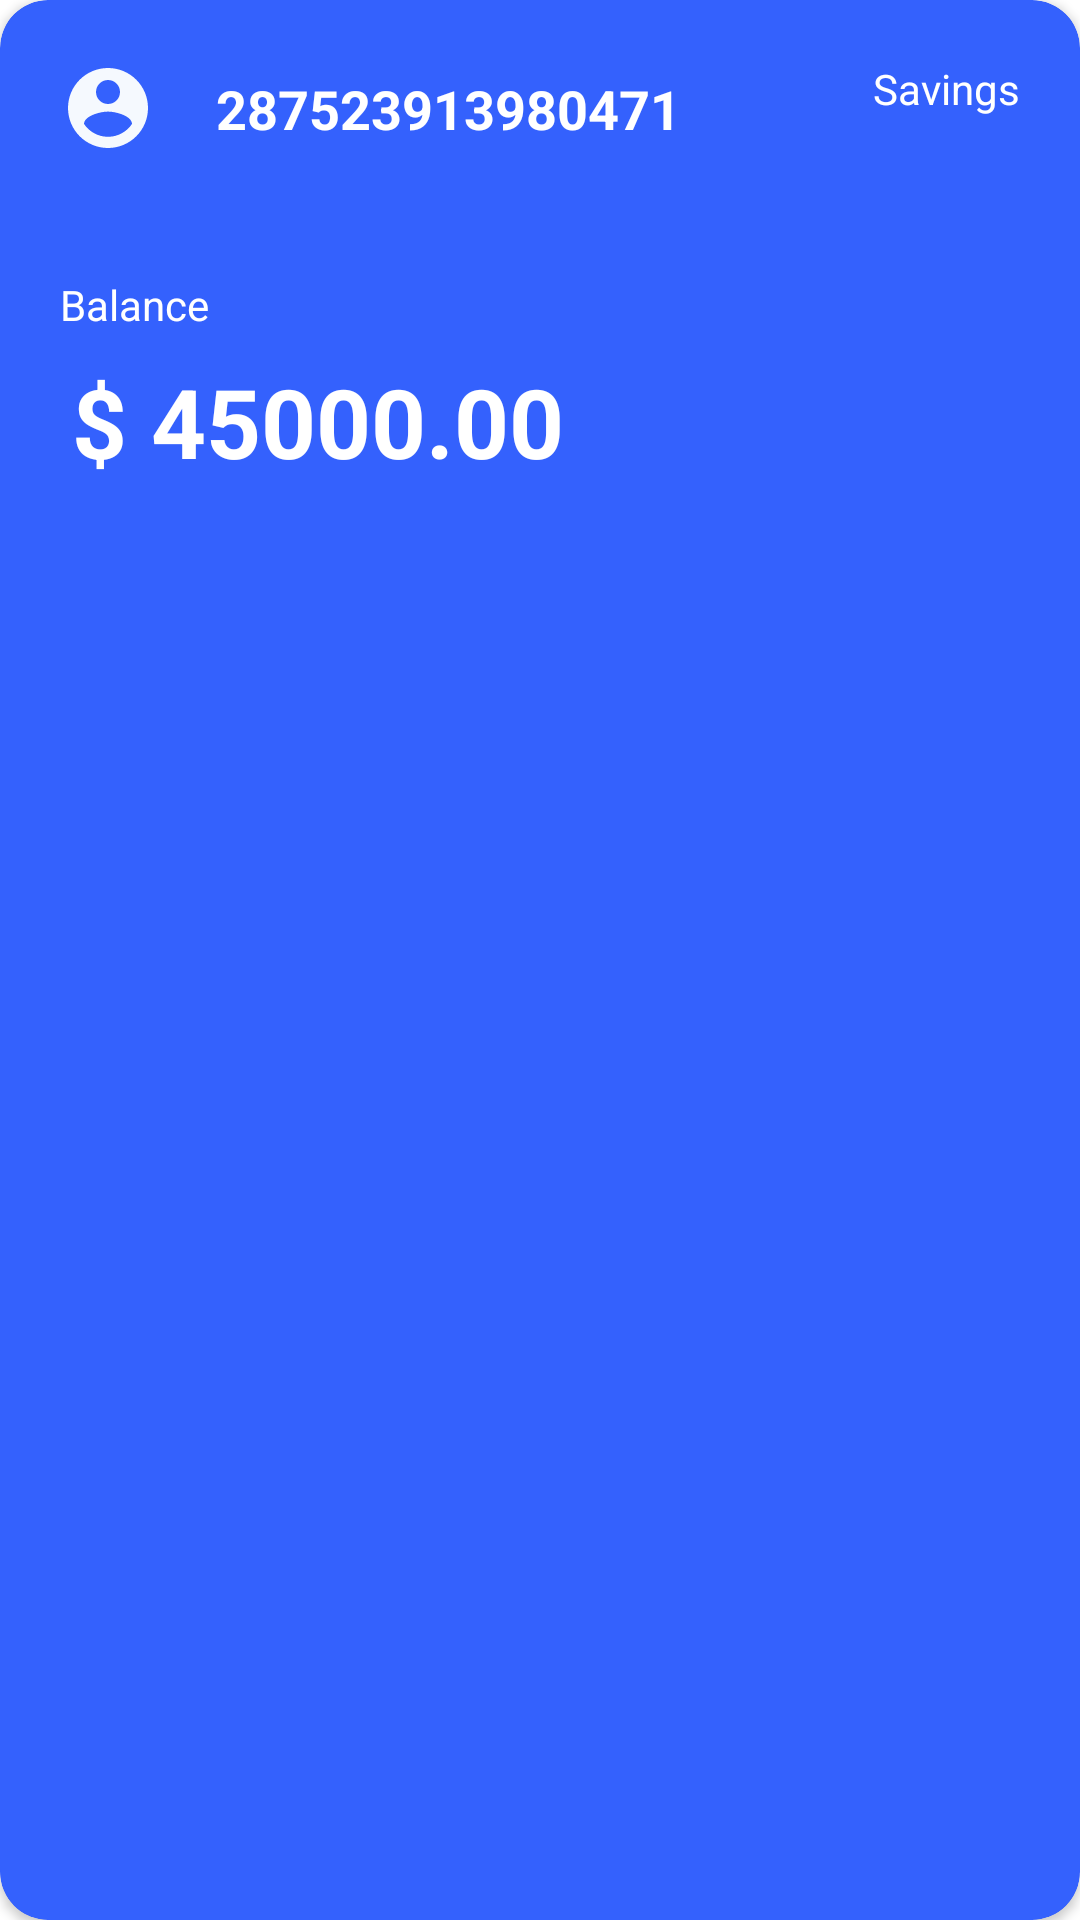

Screen size 1080 × 1920. Icon name, then its center in pixels as [x,y]:
account circle: [108,108]
